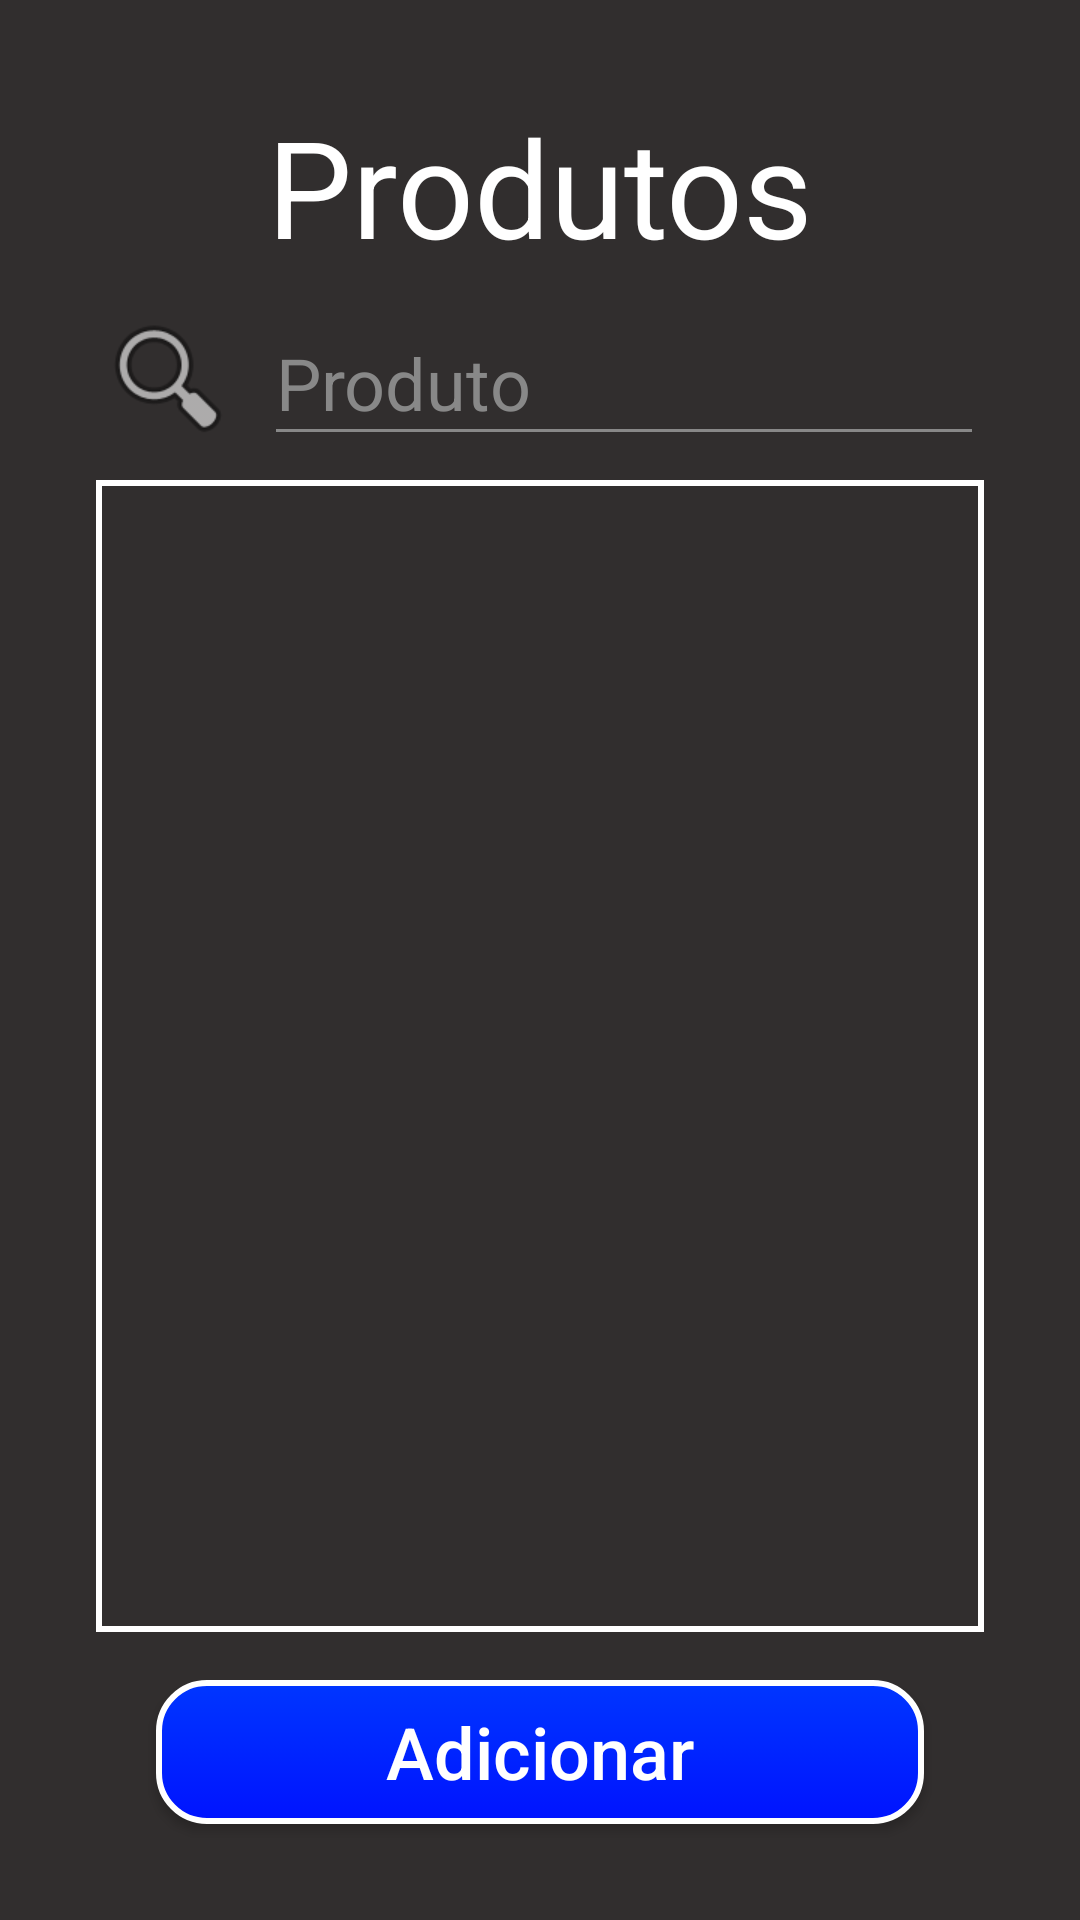

Icon click points for this 1080x1920 phone screenshot, format (x,y):
search: (167,379)
